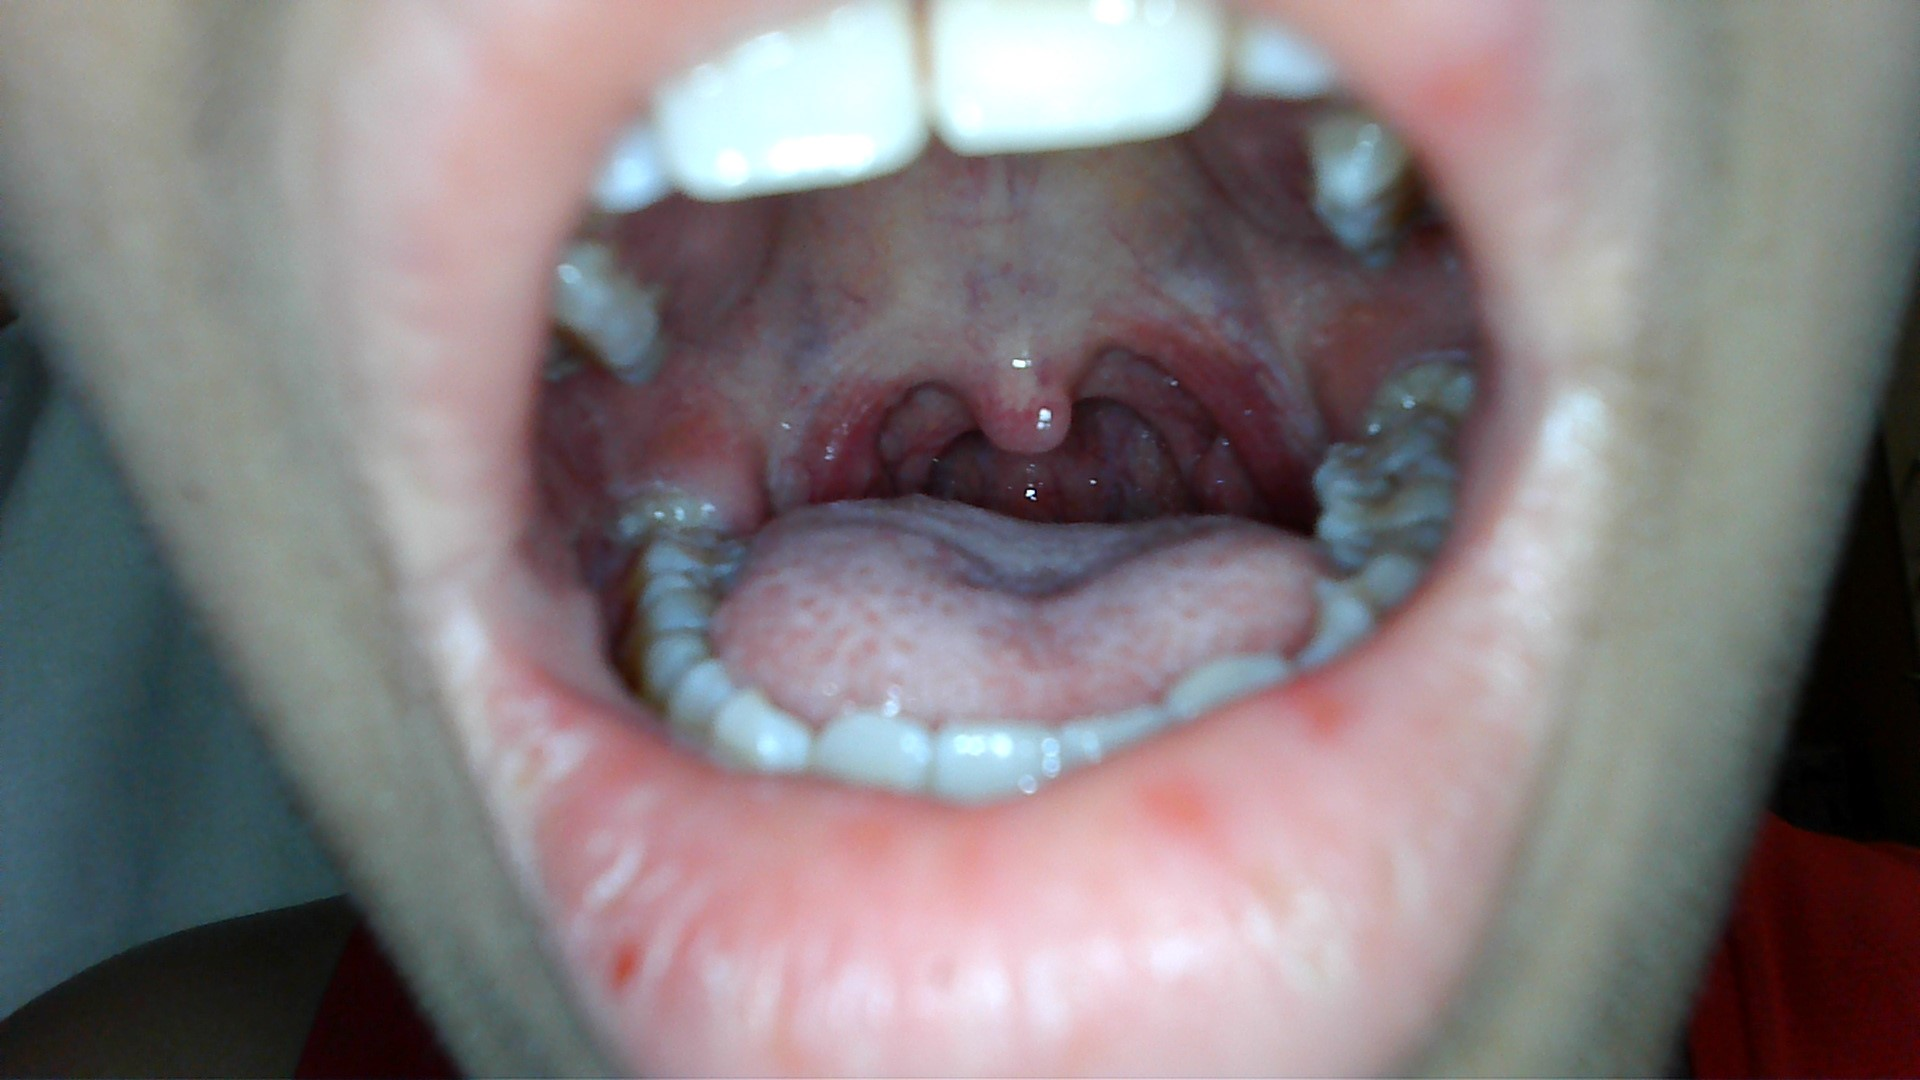throat: (1130, 295, 1274, 492), (786, 332, 930, 492)
